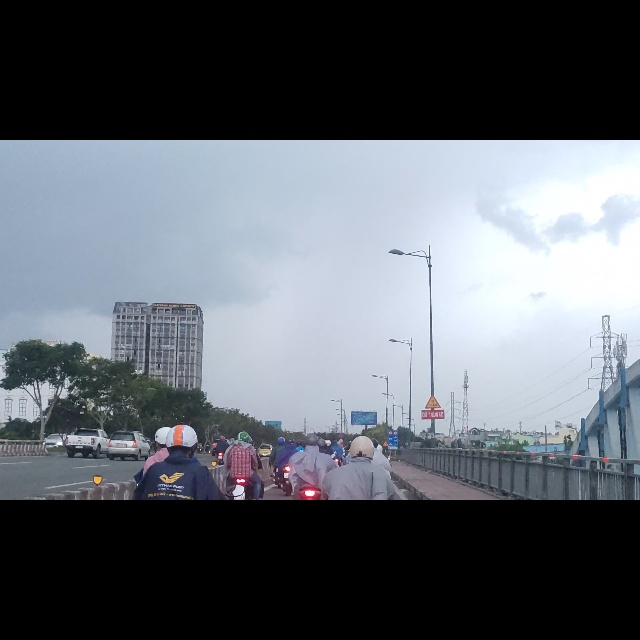bien_nguy_hiem: (424, 449, 442, 478), (382, 535, 389, 545)
